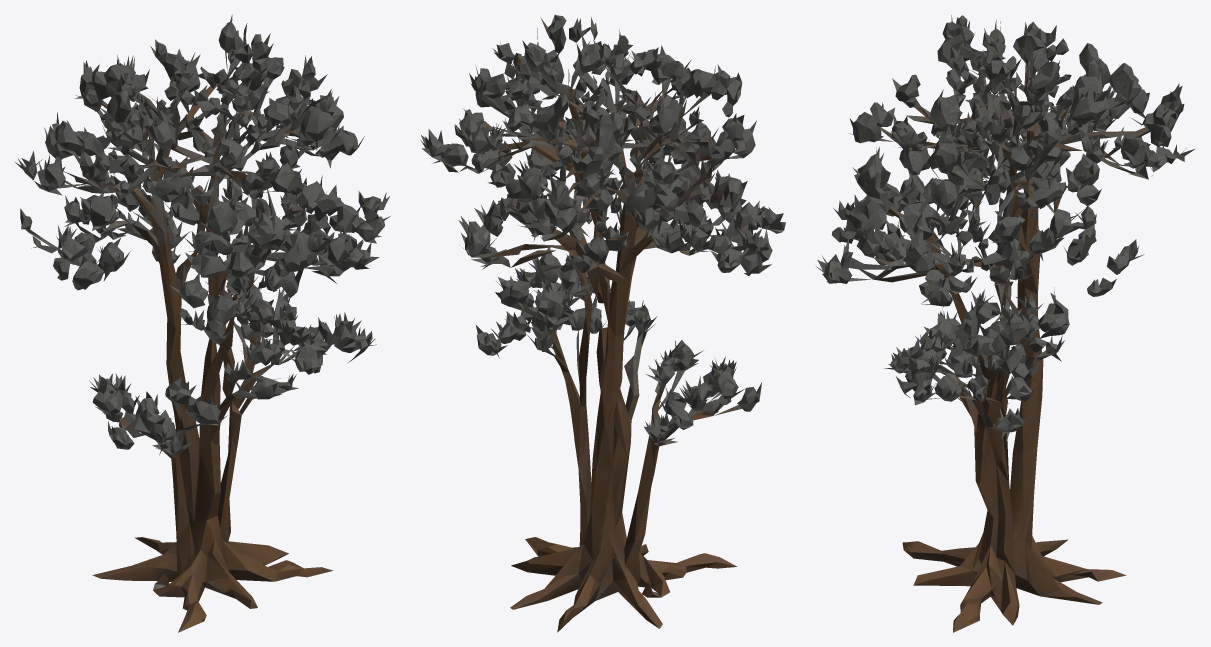
File: acacia_wattle.glb
3 views of the same model, side by side, from view 1: azimuth 30°, elevation 25°; view 2: azimuth 150°, elevation 25°; view 3: azimuth 270°, elevation 25° (orthographic). The views are drawn at different scales.
Bounding box in the file's own units: 1.18 × 1.86 × 1.16.
1 material, 1 textured.
